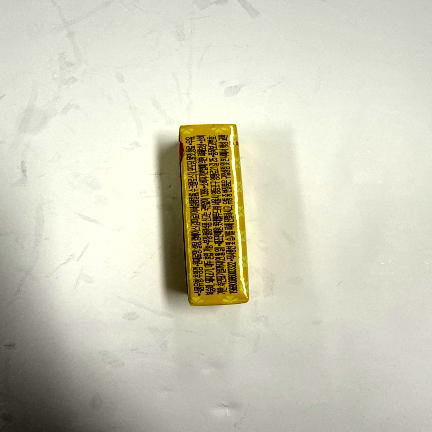gum_yellow: (181, 125, 247, 305)
